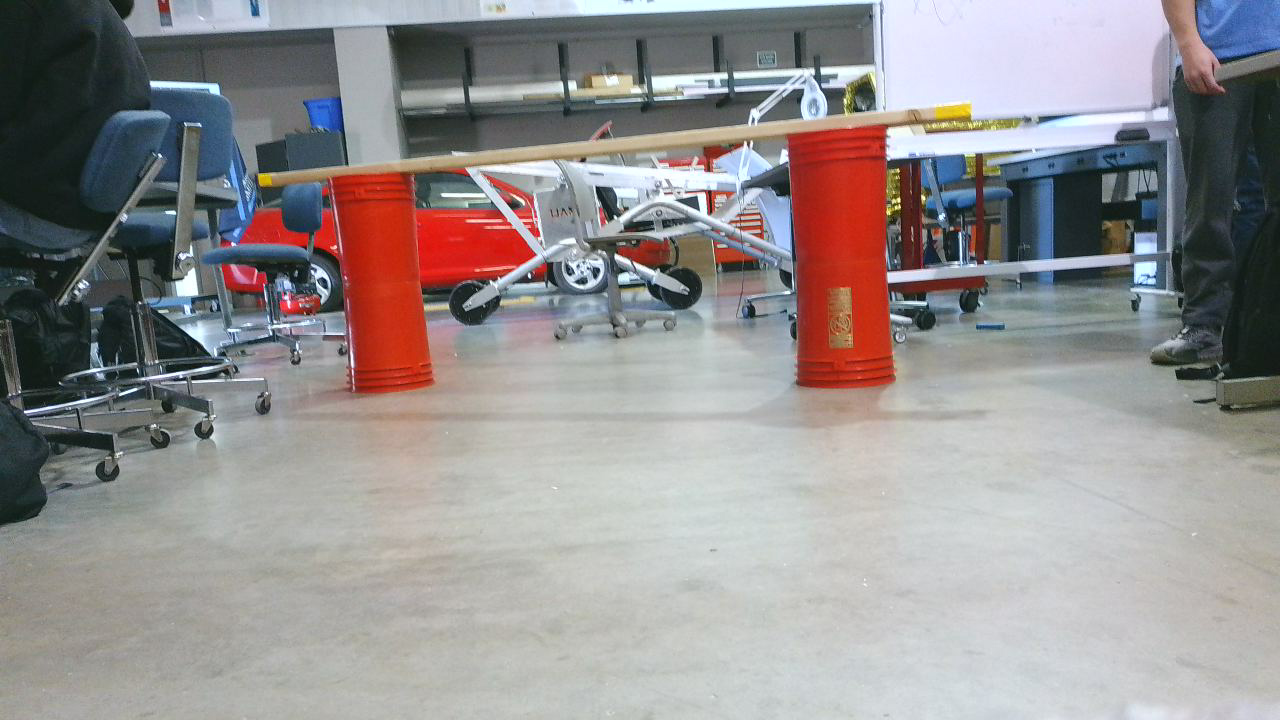red_bucket_arch: (346, 99, 967, 402)
